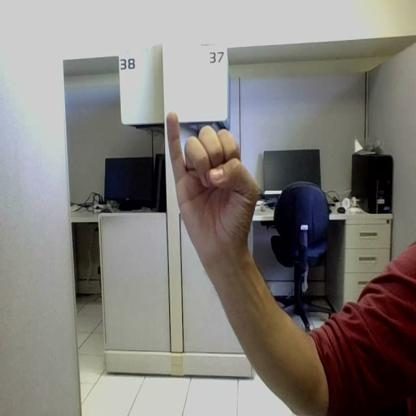I: (166, 113, 259, 251)
